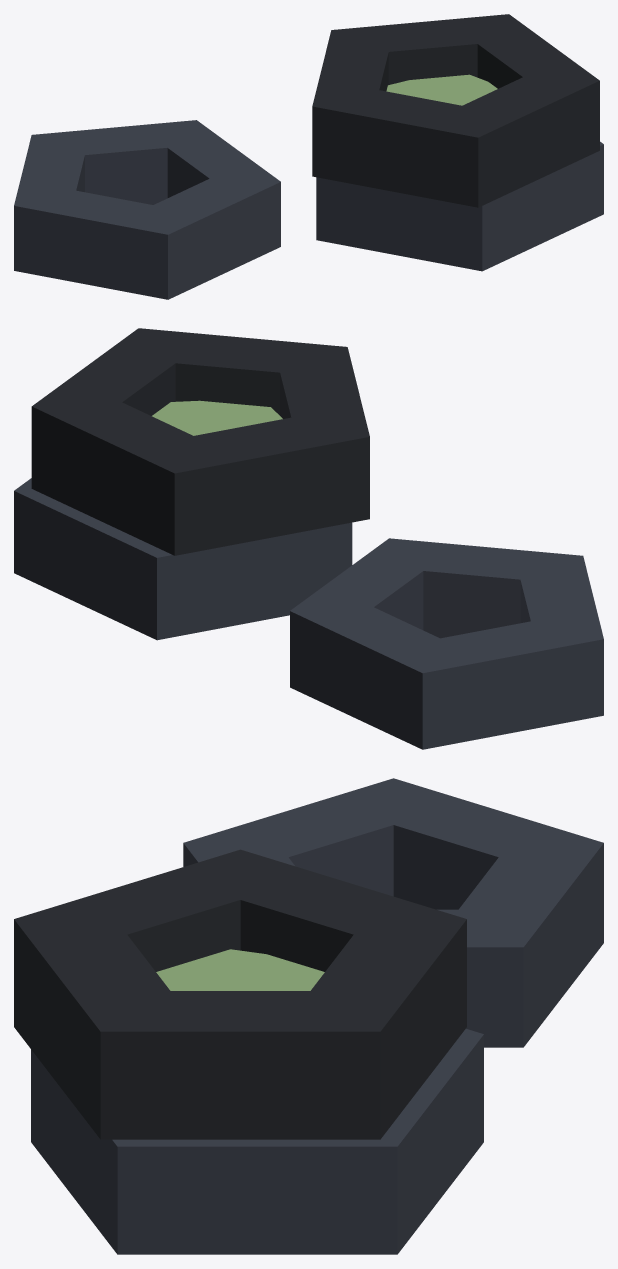
File: pneus_velhos.glb
3 views of the same model, one above another, from view 1: azimuth 30°, elevation 25°; view 2: azimuth 150°, elevation 25°; view 3: azimuth 270°, elevation 25° (orthographic). The views are drawn at different scales.
Parts seen in each view (by area): view 1: corpo; view 2: corpo; view 3: corpo.
Part boxes in pixels (bbox=[...]): corpo: bbox=[14, 14, 603, 299]; corpo: bbox=[14, 328, 603, 749]; corpo: bbox=[14, 778, 603, 1254].
Bounding box in the file's own units: 0.5233 × 0.14 × 0.3468.
